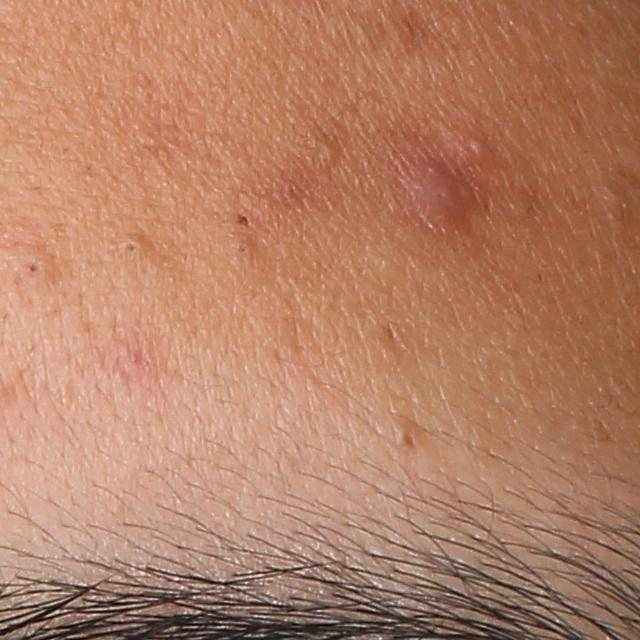comedo: (14, 251, 57, 286), (393, 420, 423, 454), (114, 233, 147, 262), (464, 128, 491, 160), (235, 210, 253, 228)
papule: (403, 156, 465, 239)
